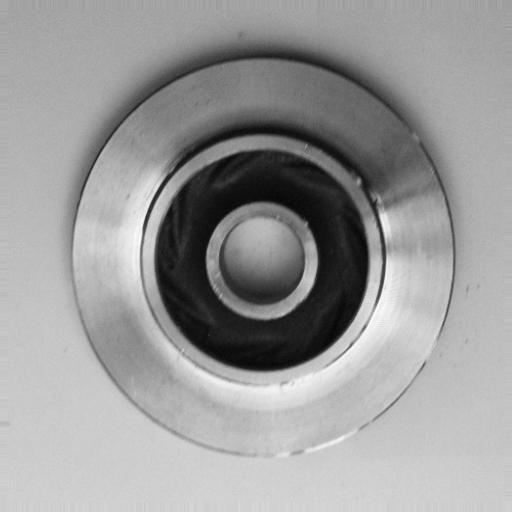crack: (348, 162, 392, 219)
scratch: (258, 411, 370, 480)
unpolished_casting: (68, 54, 461, 465)
